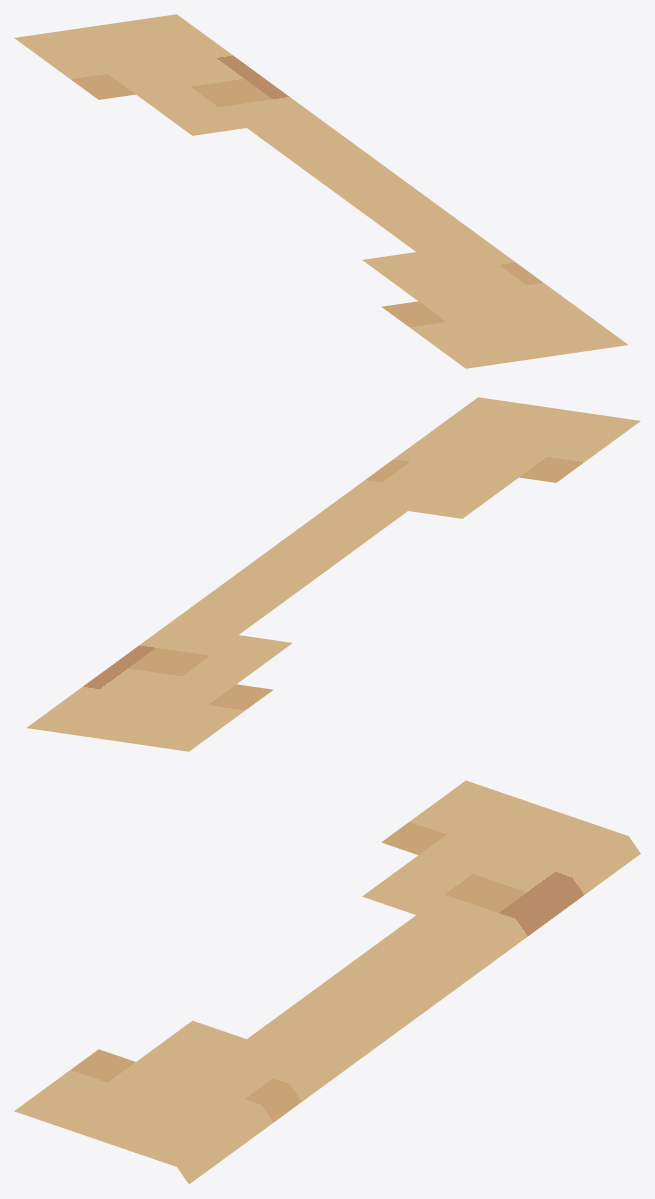
The picture shows the model from 3 angles, top to bottom: view 1: azimuth 30°, elevation 25°; view 2: azimuth 150°, elevation 25°; view 3: azimuth 330°, elevation 25°; orthographic projection.
Size of the model in its own units: 0.2236 by 0.0373 by 1.
1 material, 1 textured.
